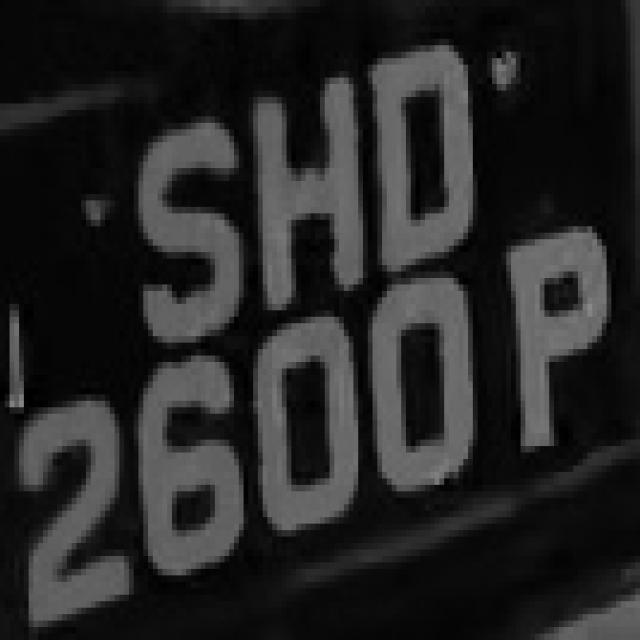0: (244, 304, 372, 549), (348, 272, 478, 504)
2: (5, 362, 148, 640)
6: (115, 349, 253, 569)
D: (353, 45, 478, 272)
H: (239, 84, 377, 310)
P: (468, 245, 621, 498)
S: (105, 84, 253, 336)
